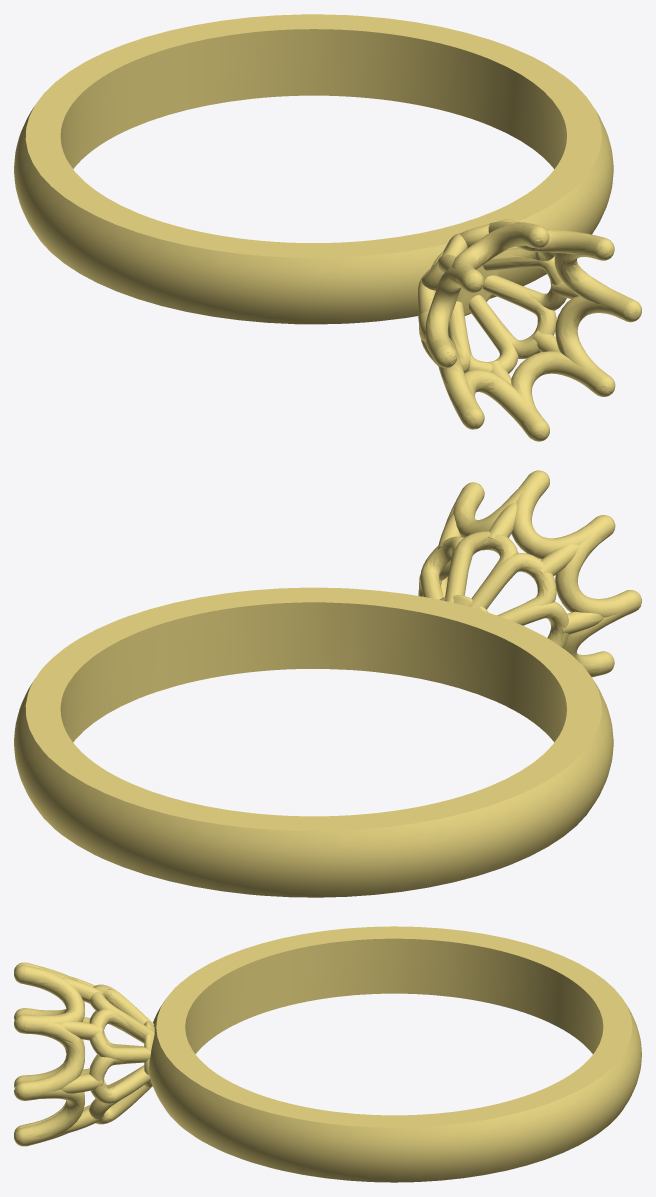
3 renders of one model, top to bottom at view 1: azimuth 30°, elevation 25°; view 2: azimuth 150°, elevation 25°; view 3: azimuth 270°, elevation 25°, orthographic. The views are drawn at different scales.
Visible parts, largest first — view 1: lr-0002; view 2: lr-0002; view 3: lr-0002.
Part boxes in pixels (x1,y1,x2,y2): lr-0002: [14, 14, 641, 441]; lr-0002: [14, 470, 641, 897]; lr-0002: [14, 926, 641, 1182].
Size of the model in its own units: 0.7888 by 0.3104 by 1.
